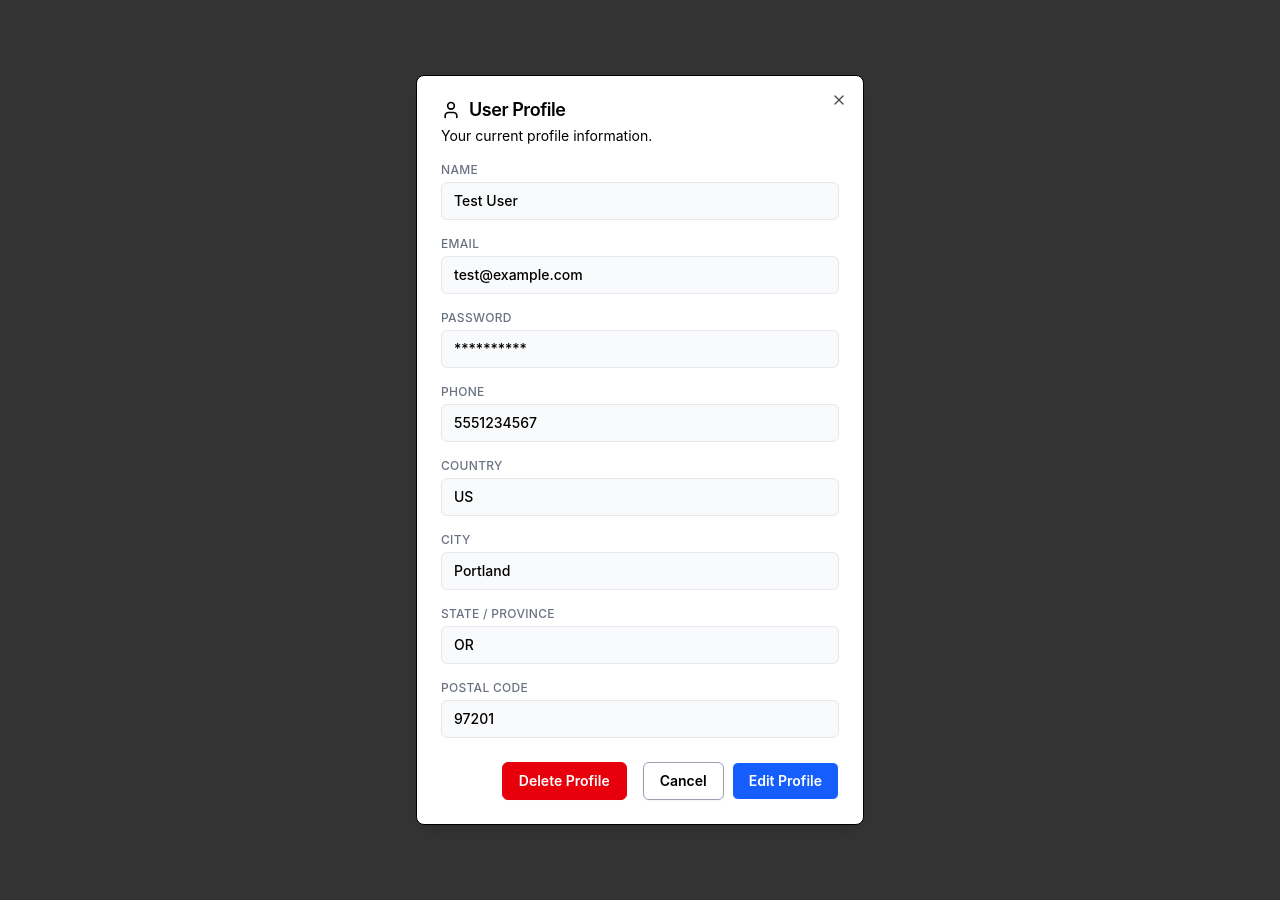
Scenario: UserProfileModal › phone without country code prefix shows full number in edit mode
Step 1. Click the button "Edit Profile" → (785, 781), box [732,762,839,800]
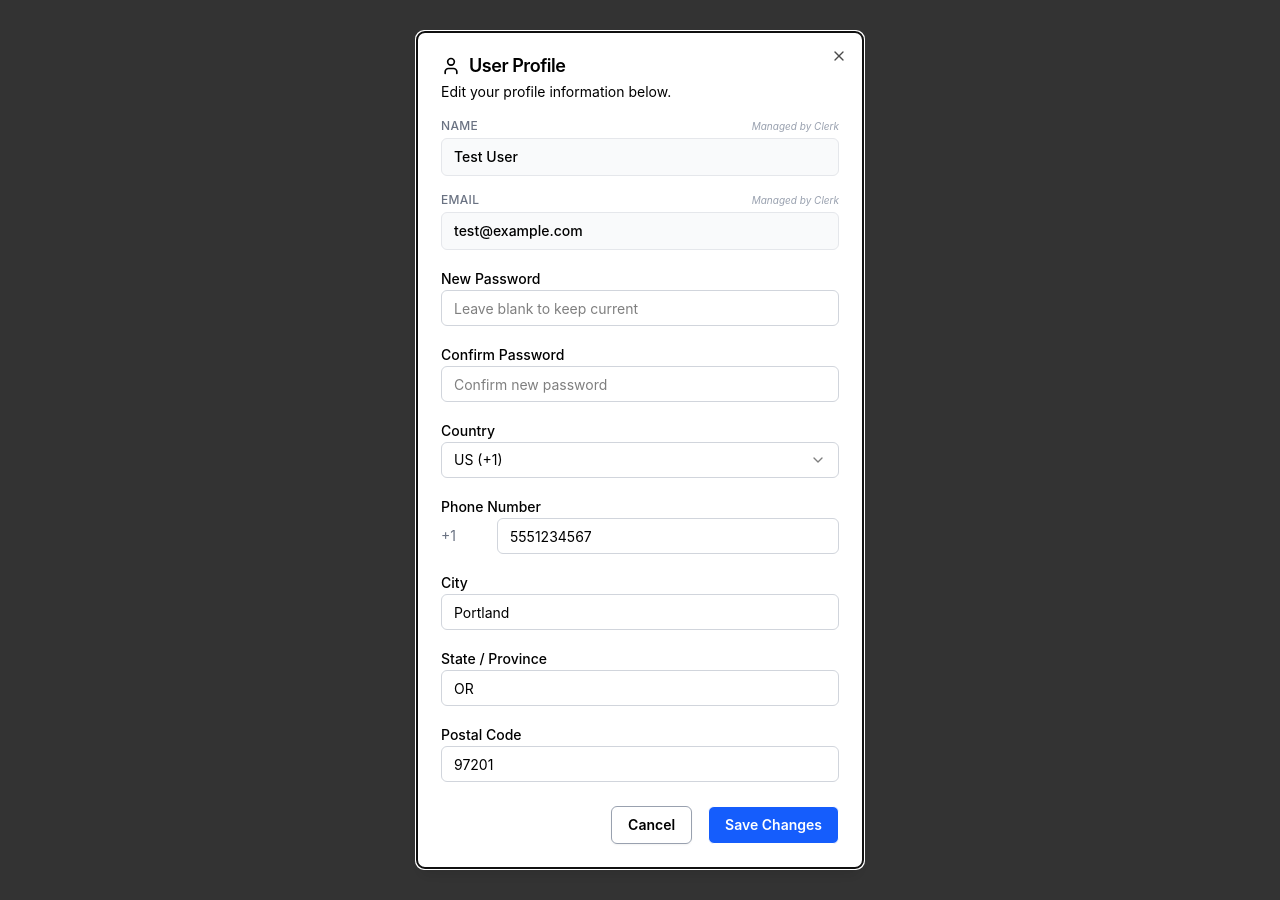
Expected: the field labelled "Phone Number" holds "5551234567", [497,518,839,554]
